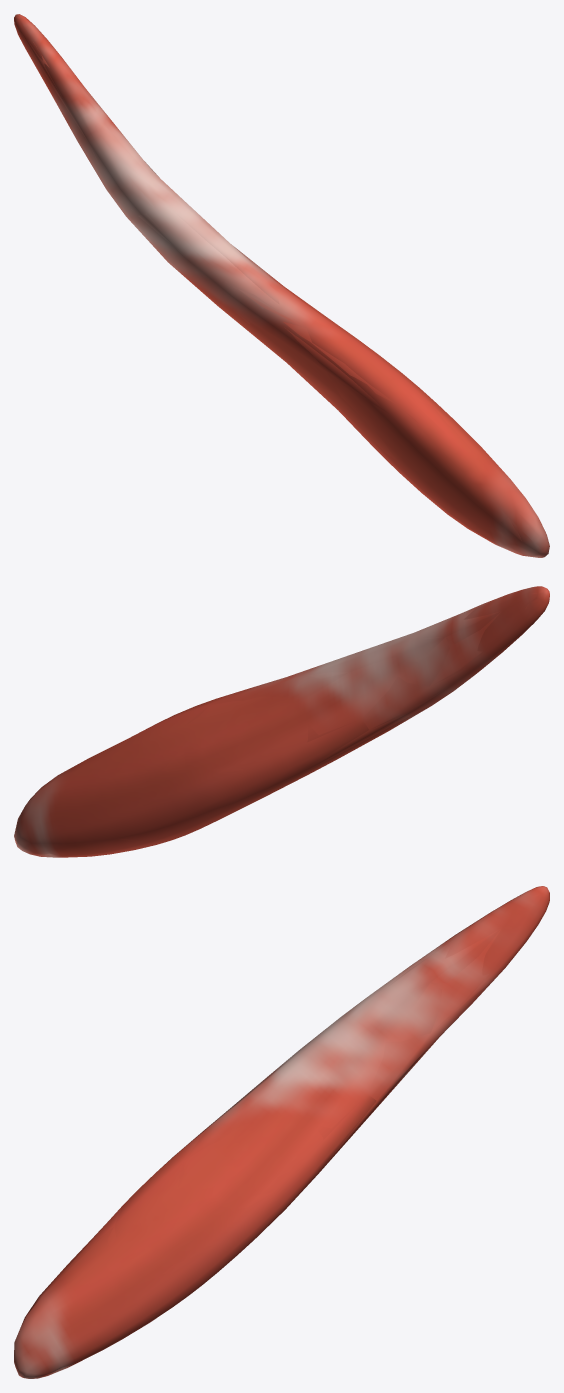
File: L Adductor.fbx
3 views of the same model, one above another, from view 1: azimuth 30°, elevation 25°; view 2: azimuth 210°, elevation 25°; view 3: azimuth 270°, elevation 25° (orthographic). The views are drawn at different scales.
Visible parts, largest first — view 1: L Adductor, L Adductor low; view 2: L Adductor, L Adductor low; view 3: L Adductor, L Adductor low.
Part boxes in pixels (x1,y1,x2,y2): L Adductor: (14, 14, 549, 557); L Adductor low: (16, 14, 549, 556); L Adductor: (14, 586, 549, 857); L Adductor low: (15, 592, 548, 856); L Adductor: (14, 886, 549, 1378); L Adductor low: (15, 894, 540, 1376).
Size of the model in its own units: 7.05 by 10.57 by 13.48.
